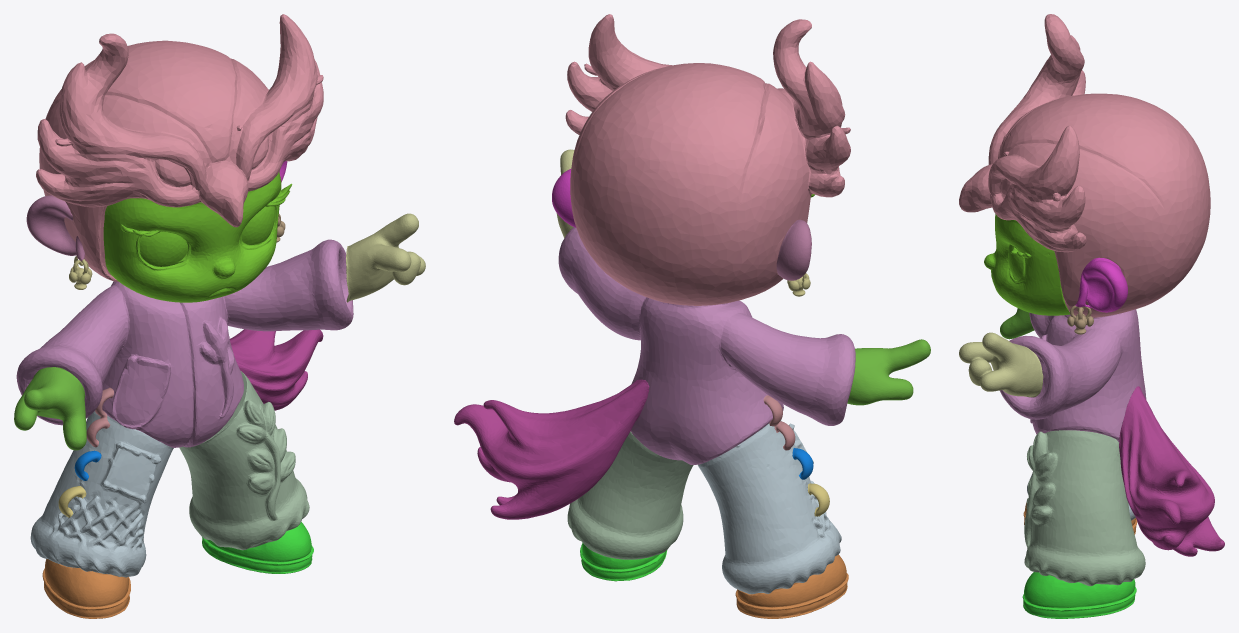
3 views of the same model, side by side, from view 1: azimuth 30°, elevation 25°; view 2: azimuth 150°, elevation 25°; view 3: azimuth 270°, elevation 25° (orthographic). The views are drawn at different scales.
Visible parts, largest first — view 1: world; view 2: world; view 3: world.
Boxes of the visible parts, bbox=[...] form: world: bbox=[14, 14, 425, 618]; world: bbox=[454, 14, 930, 618]; world: bbox=[959, 14, 1224, 618].
Size of the model in its own units: 1.43 by 2 by 0.9371.
